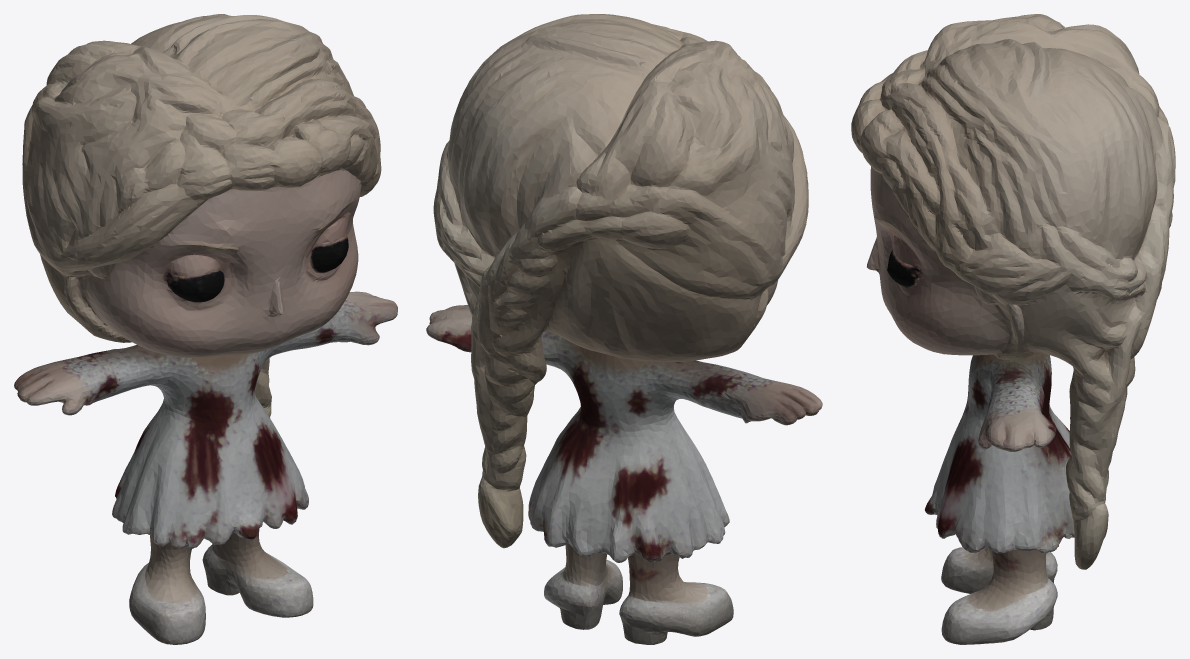
The model's file is skyebrowse-3d-model.obj.
The picture shows the model from 3 angles, left to right: view 1: azimuth 30°, elevation 25°; view 2: azimuth 150°, elevation 25°; view 3: azimuth 270°, elevation 25°; orthographic projection. The views are drawn at different scales.
Visible parts, largest first — view 1: obj1; view 2: obj1; view 3: obj1.
Part boxes in pixels (x1=…): obj1: x1=14, y1=14, x2=397, y2=644; obj1: x1=426, y1=14, x2=822, y2=644; obj1: x1=851, y1=14, x2=1175, y2=644.
Bounding box in the file's own units: 0.6894 × 0.9982 × 0.5183.
